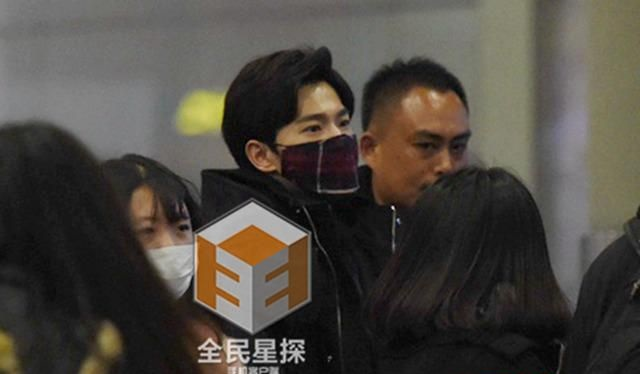face: (380, 93, 470, 207)
face_mask: (117, 185, 197, 302), (280, 84, 363, 194)
